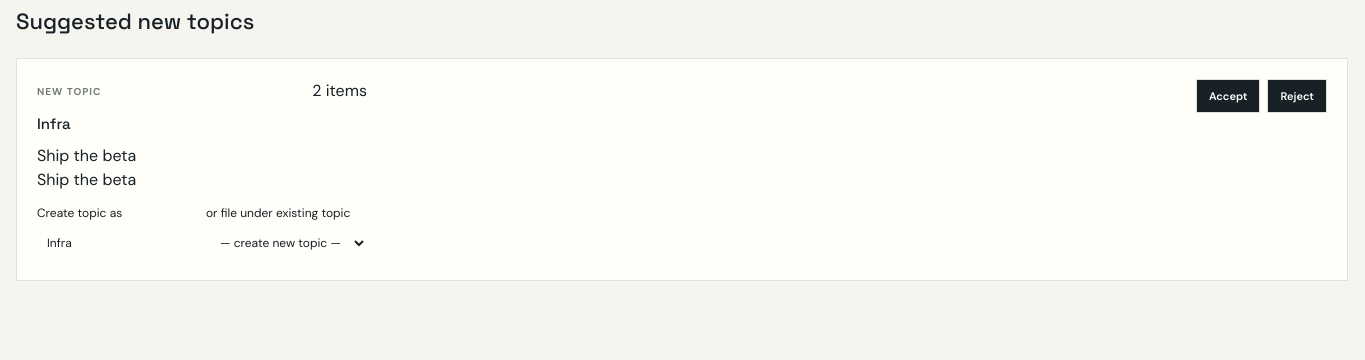
TopicProposalList › restores the proposal when rejecting fails
Click the button "Reject" at [1297, 96], box [1268,79,1327,113]
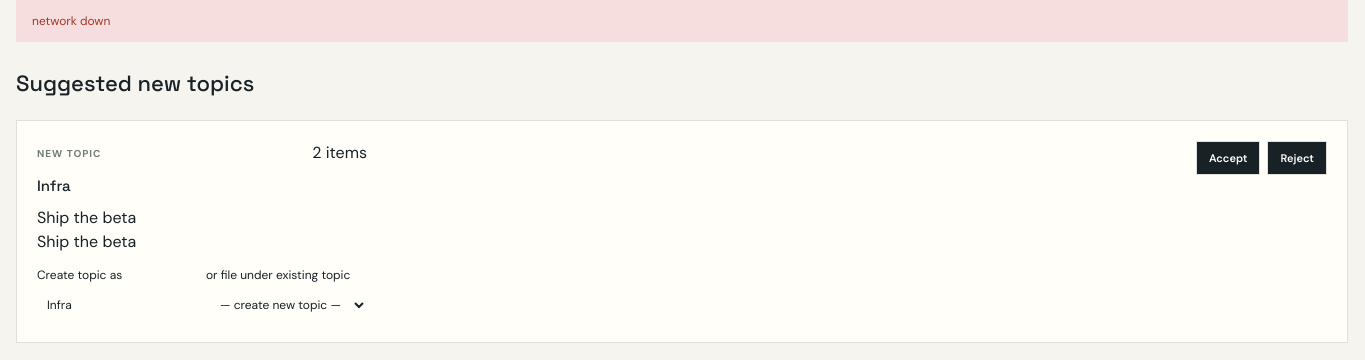
Expected: the heading "Infra" is shown, [37,176,71,195]
Expected: the text "network down" is shown, [16,0,1348,42]
